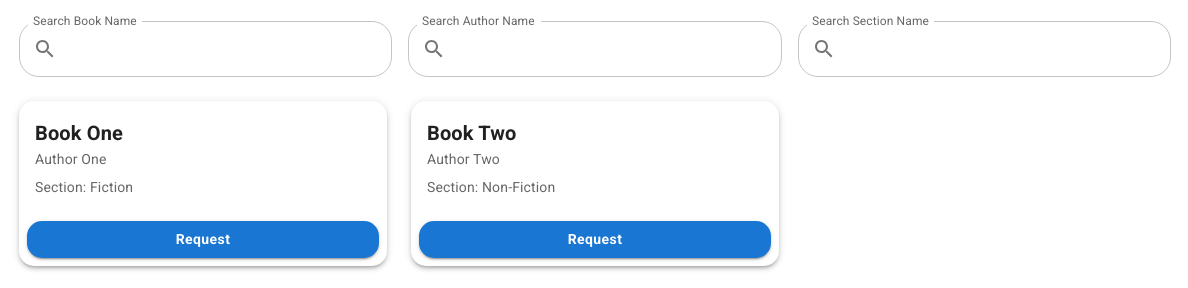
Test: AvailableBooks Component › should search books by name
Expected: the text "Book One" is shown, x1=35 y1=121 x2=123 y2=145
In the field labelled "Search Book Name": (229, 49) x1=65 y1=21 x2=392 y2=77, type "Book One"
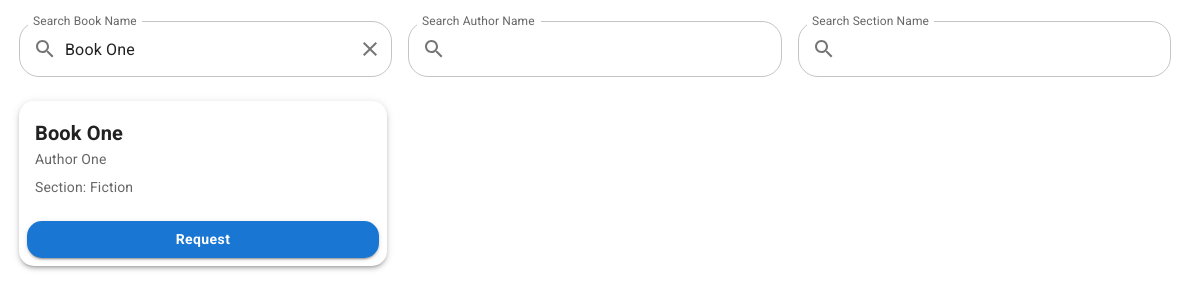
Expected: the text "Book One" is shown, x1=35 y1=121 x2=123 y2=145
Expected: the text "Book Two" is gone
